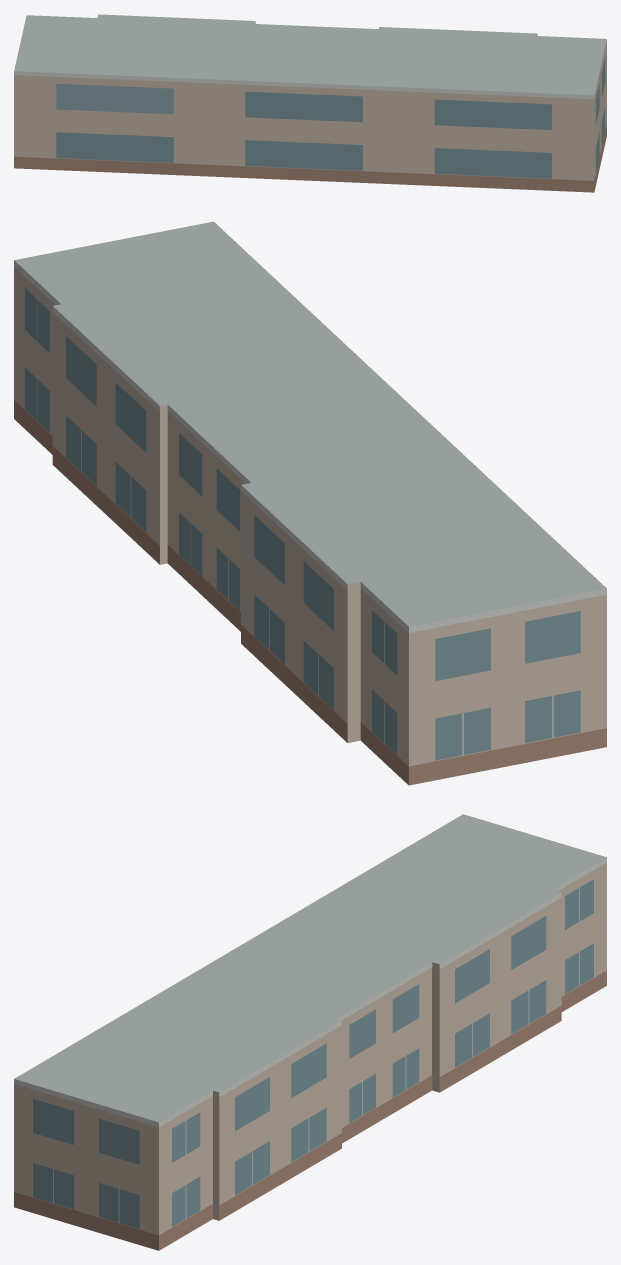
Rendered from survey-upis-32808949.glb.
3 renders of one model, top to bottom at view 1: azimuth 30°, elevation 25°; view 2: azimuth 150°, elevation 25°; view 3: azimuth 270°, elevation 25°, orthographic. The views are drawn at different scales.
Visible parts, largest first — view 1: survey-upis-32808949.tmp; view 2: survey-upis-32808949.tmp; view 3: survey-upis-32808949.tmp.
Boxes of the visible parts, <box> form: survey-upis-32808949.tmp: <box>14,14,606,192</box>; survey-upis-32808949.tmp: <box>14,221,606,785</box>; survey-upis-32808949.tmp: <box>14,814,606,1250</box>.
Bounding box in the file's own units: 31.4 × 6.1 × 25.52.
